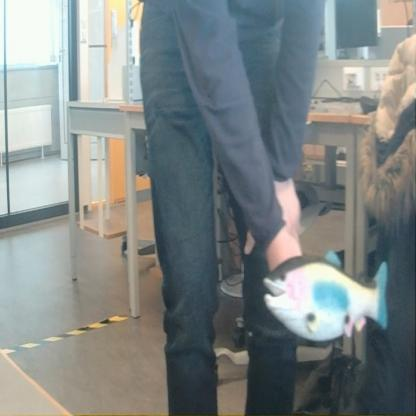rubberfish: (260, 245, 392, 346)
